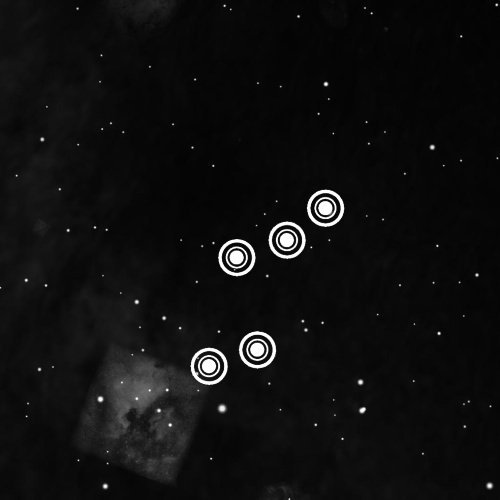lyra: (182, 178, 352, 393)
